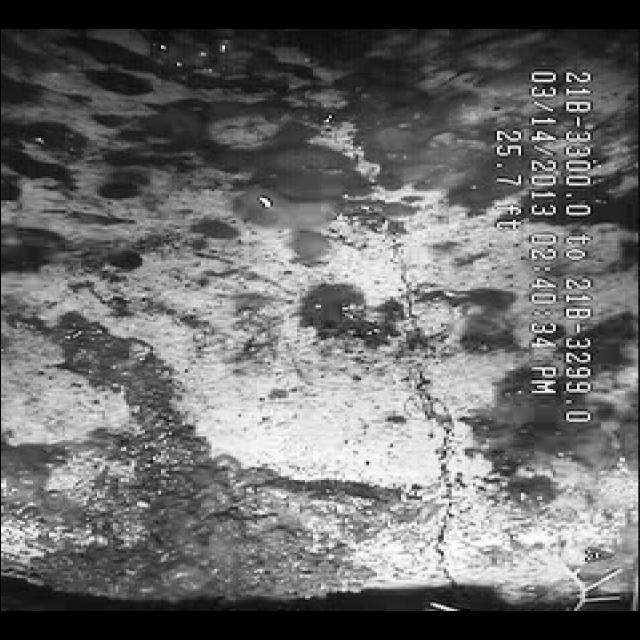Crack: (344, 164, 474, 573)
